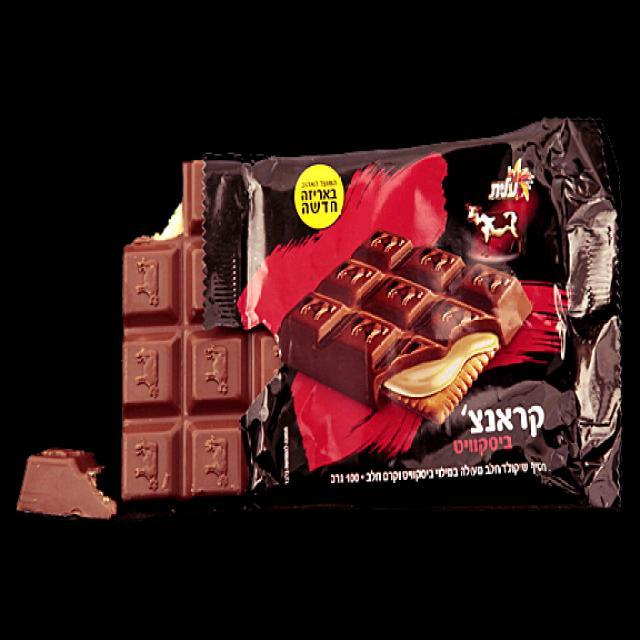Chocolate bar: (194, 113, 634, 511)
Chocolate bar packaged: (118, 153, 246, 516)
